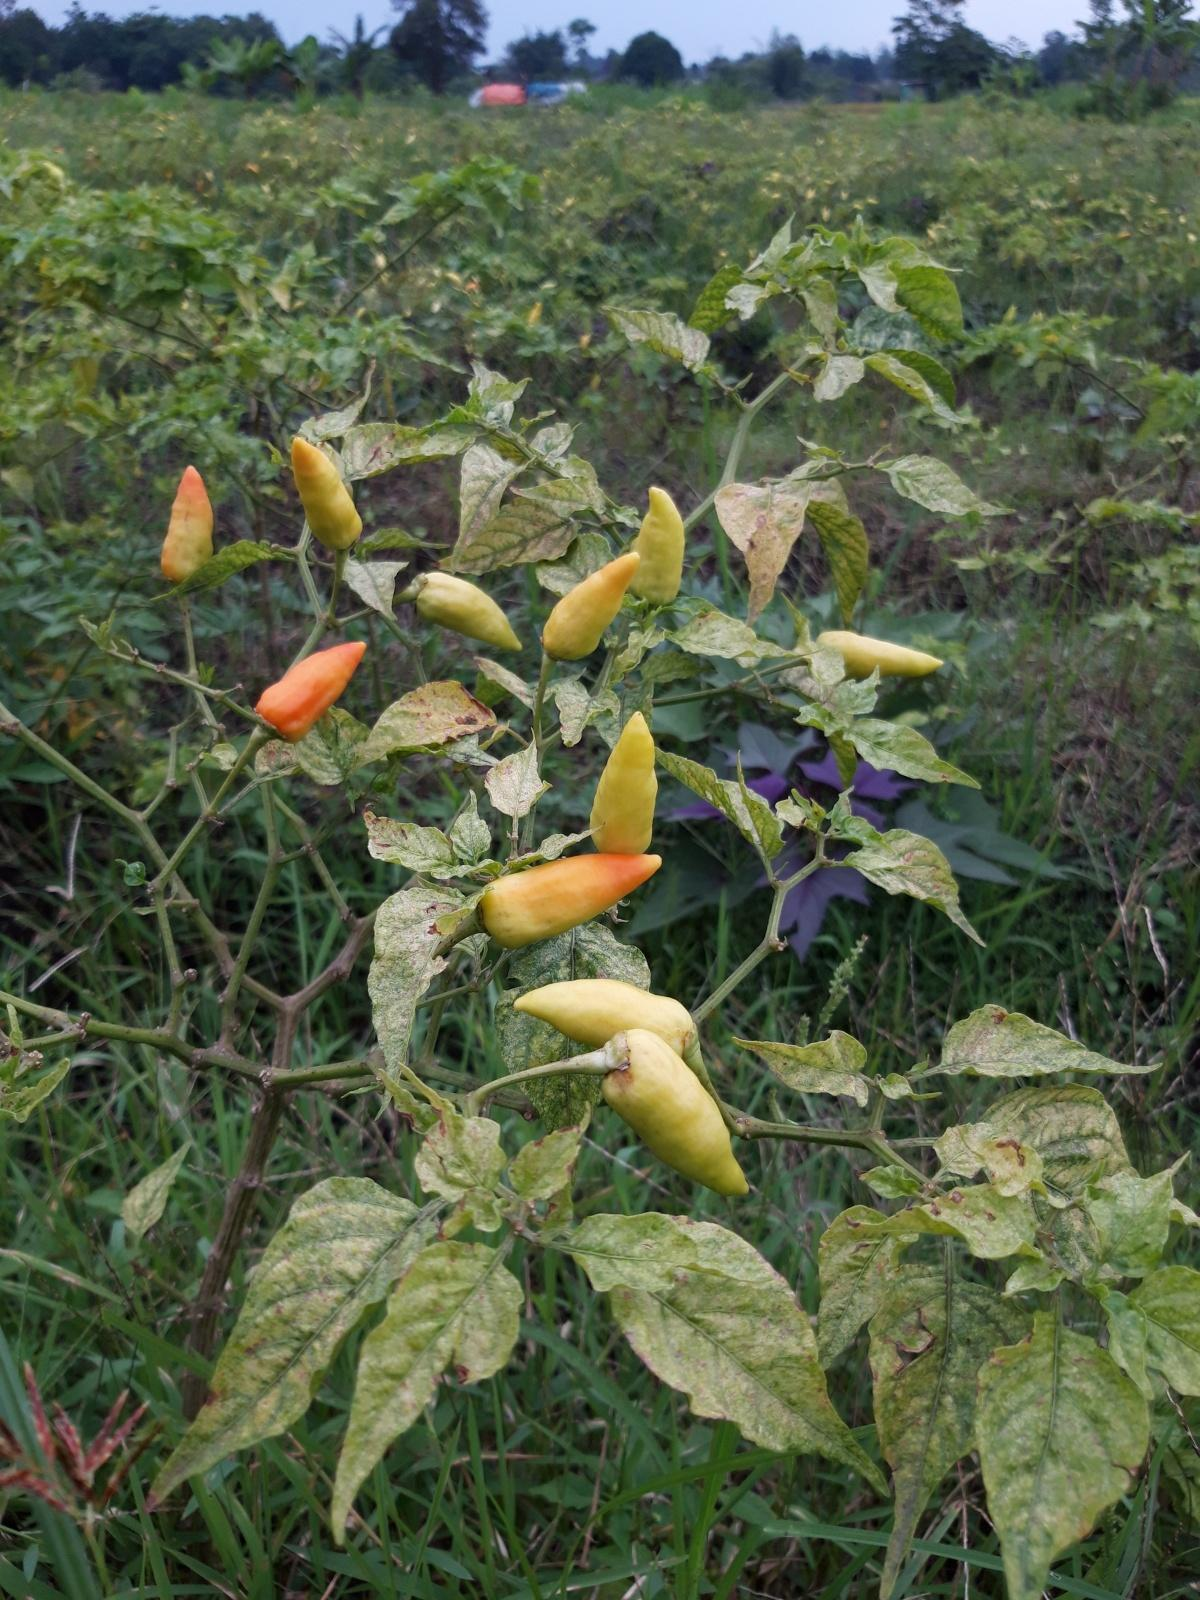cabai_normal: (603, 1028, 749, 1196), (484, 854, 662, 944), (513, 978, 695, 1062), (252, 643, 368, 737), (539, 553, 642, 659), (590, 711, 659, 850), (418, 573, 523, 653), (291, 437, 363, 552), (160, 465, 217, 585), (812, 629, 945, 679), (629, 485, 686, 603)
